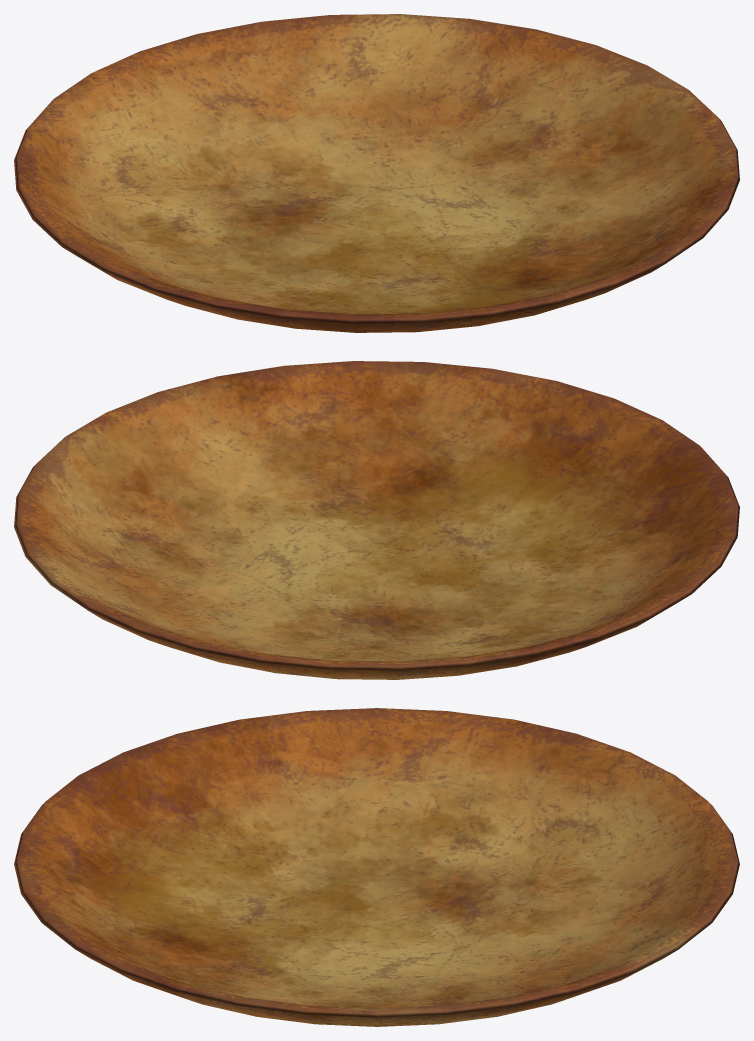
The model's file is Platos.obj.
3 views of the same model, one above another, from view 1: azimuth 30°, elevation 25°; view 2: azimuth 150°, elevation 25°; view 3: azimuth 270°, elevation 25° (orthographic).
Parts seen in each view (by area): view 1: Terracotta_Plate_LOD0_OBJ:CylinderFBXASC046006; view 2: Terracotta_Plate_LOD0_OBJ:CylinderFBXASC046006; view 3: Terracotta_Plate_LOD0_OBJ:CylinderFBXASC046006.
Part boxes in pixels (x1=…): Terracotta_Plate_LOD0_OBJ:CylinderFBXASC046006: x1=14, y1=14, x2=739, y2=332; Terracotta_Plate_LOD0_OBJ:CylinderFBXASC046006: x1=14, y1=361, x2=739, y2=679; Terracotta_Plate_LOD0_OBJ:CylinderFBXASC046006: x1=14, y1=708, x2=739, y2=1026.
Size of the model in its own units: 3.33 by 0.4648 by 3.33.
Materials: 1 (1 with a texture image).
